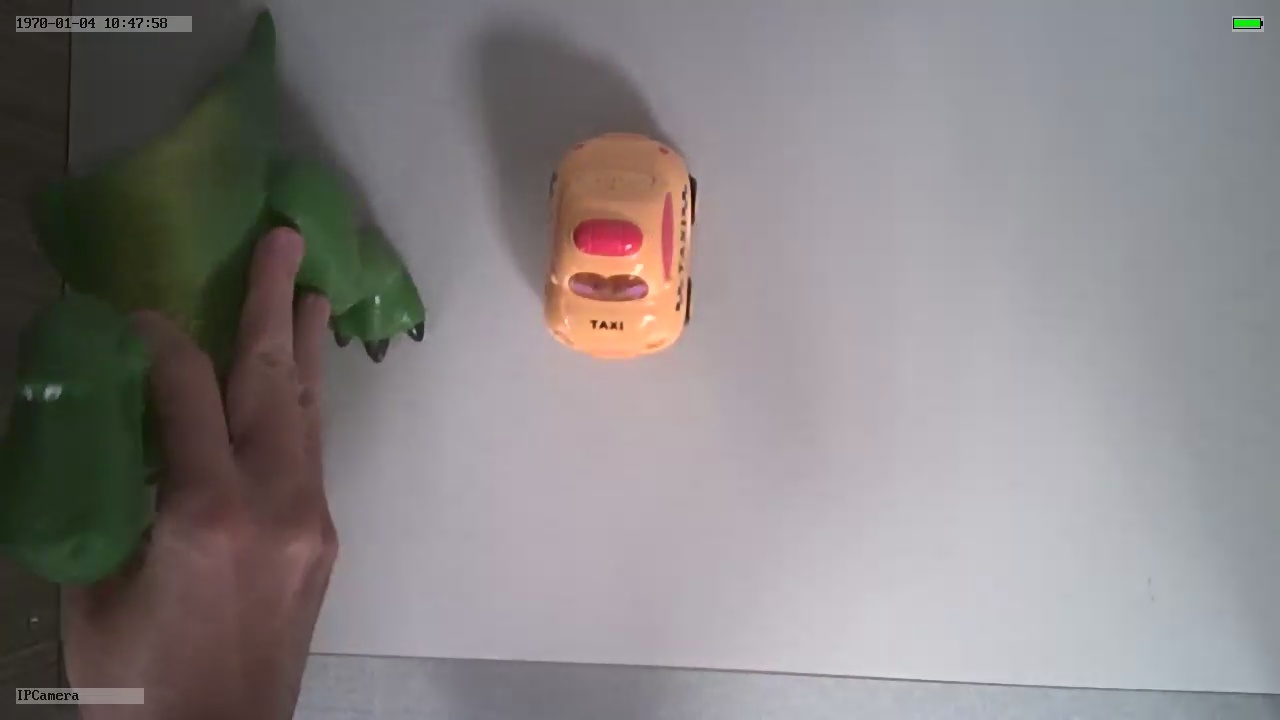car: (542, 127, 702, 363)
